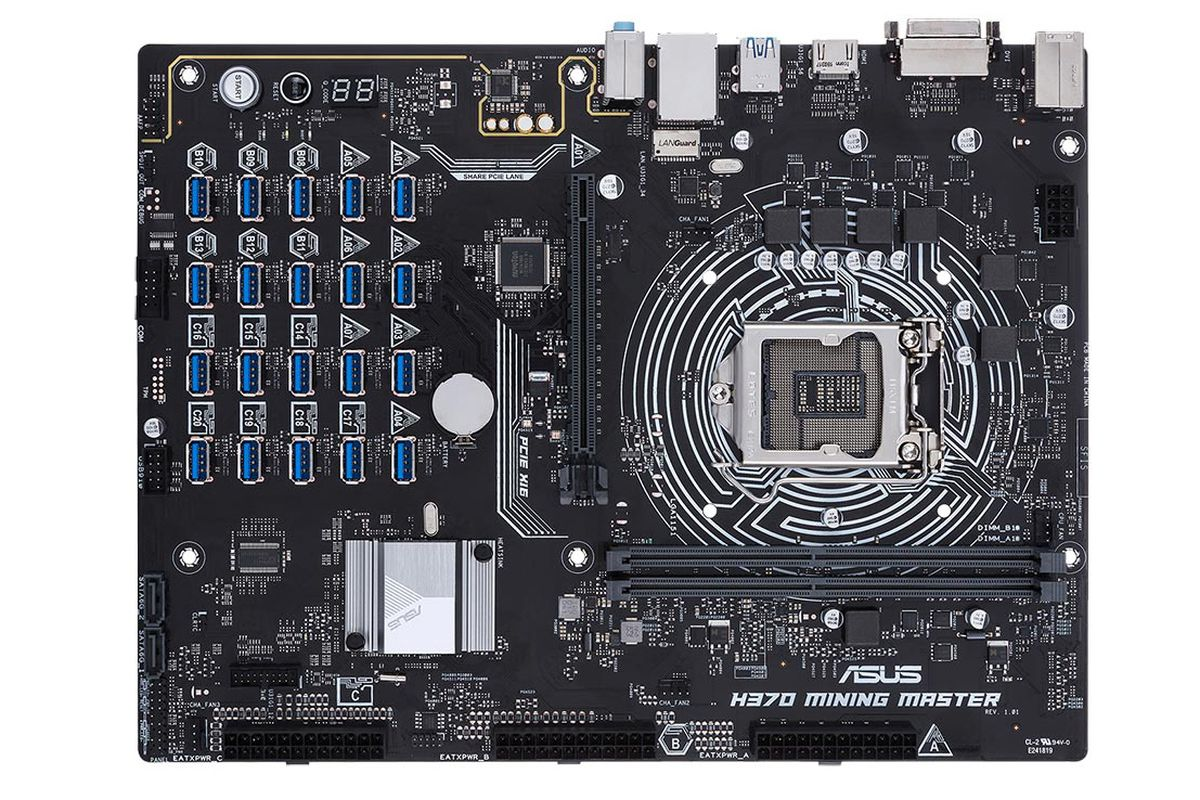Motherboard: (111, 14, 1116, 774)
